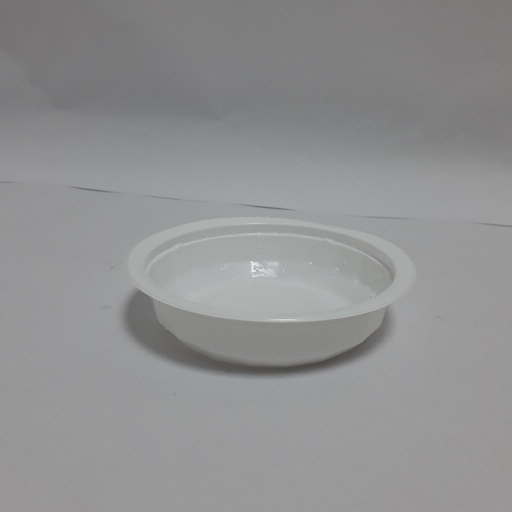Plastic_5: (124, 216, 418, 370)
